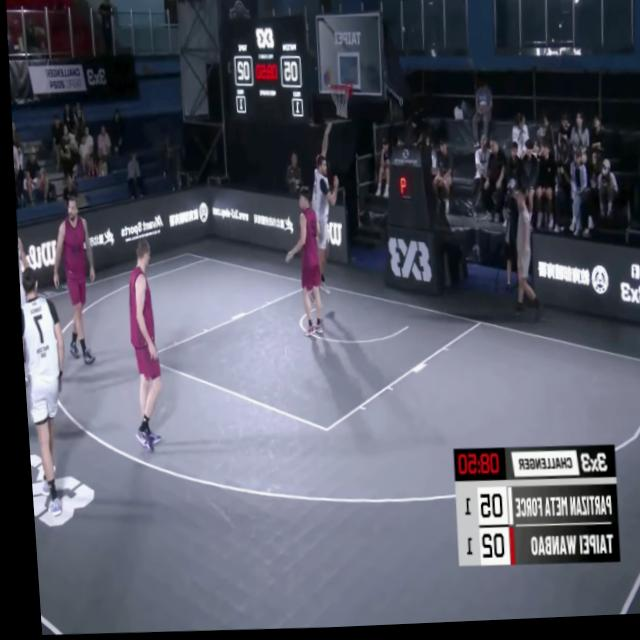ball: (320, 68, 334, 92)
hoop: (324, 83, 353, 125)
player: (14, 266, 68, 518), (117, 241, 163, 457), (45, 193, 98, 369), (275, 182, 323, 339), (300, 135, 342, 307), (11, 213, 31, 385)
